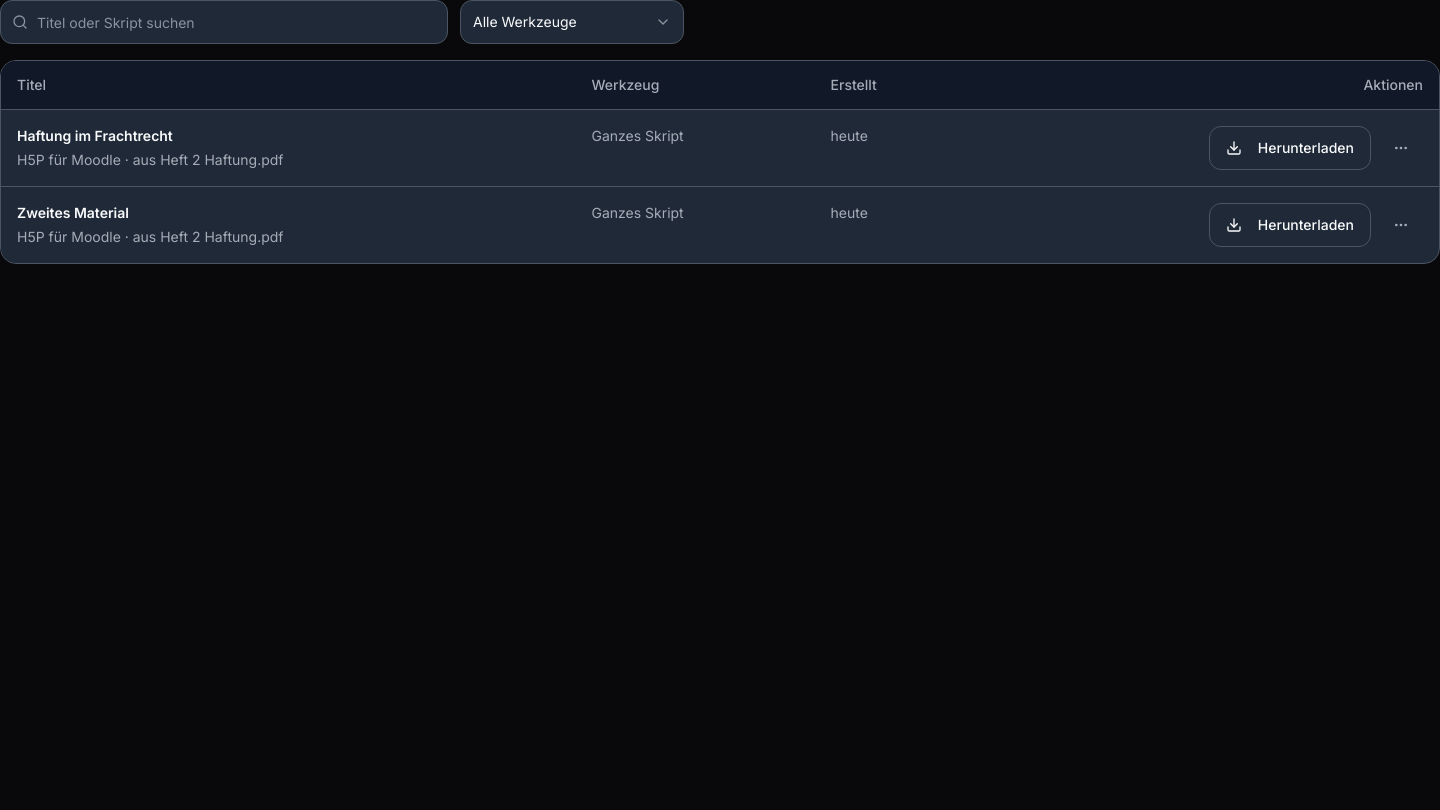
Test: Meine Materialien (PROJ-52) › löscht erst nach der Rückfrage und nimmt die Zeile dann aus der Liste
Press Enter in the button named "Weitere Aktionen für Haftung im Frachtrecht", box top-left (1379, 126), bottom-right (1423, 170)
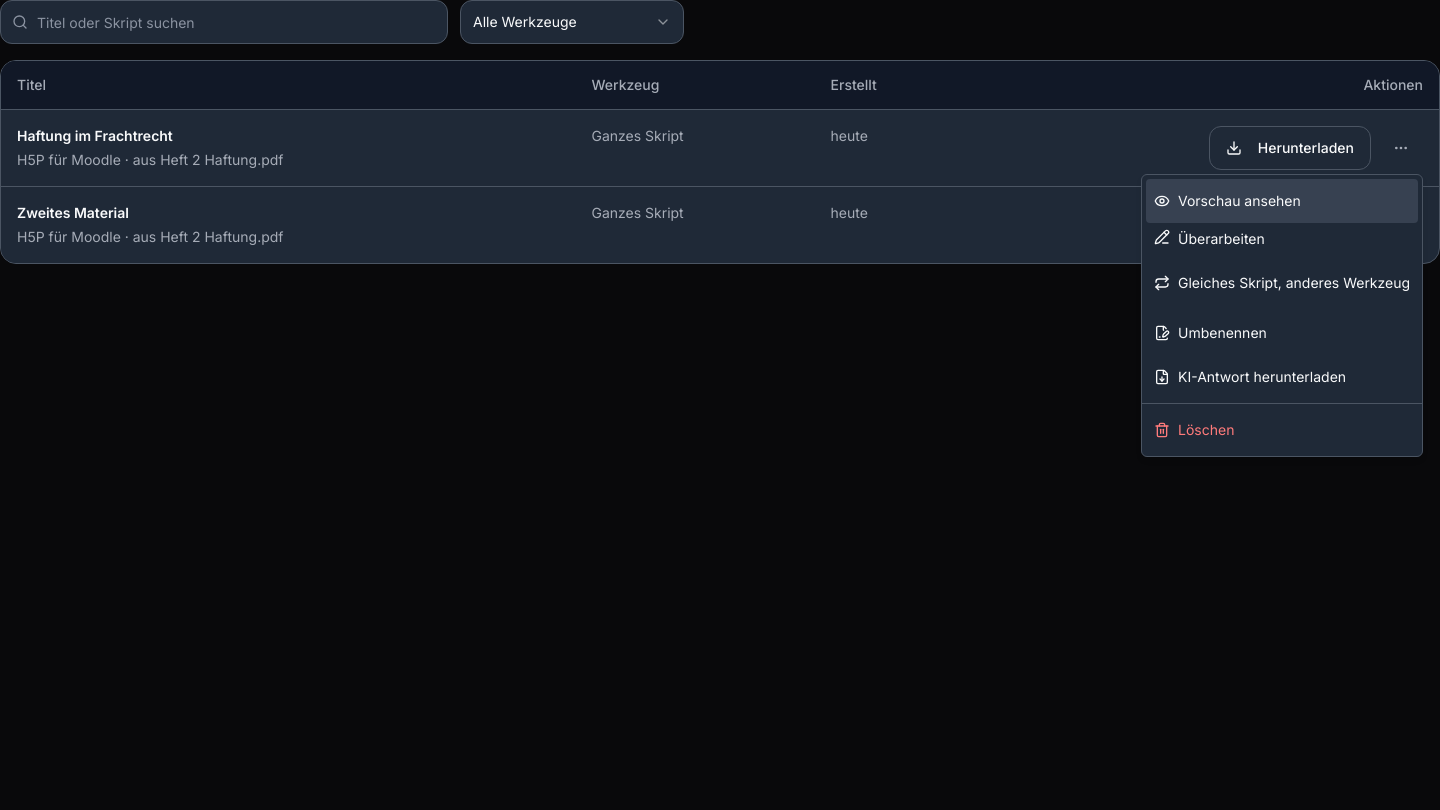
Click the menu item "Löschen" at (1194, 430), box top-left (1154, 421), bottom-right (1234, 438)
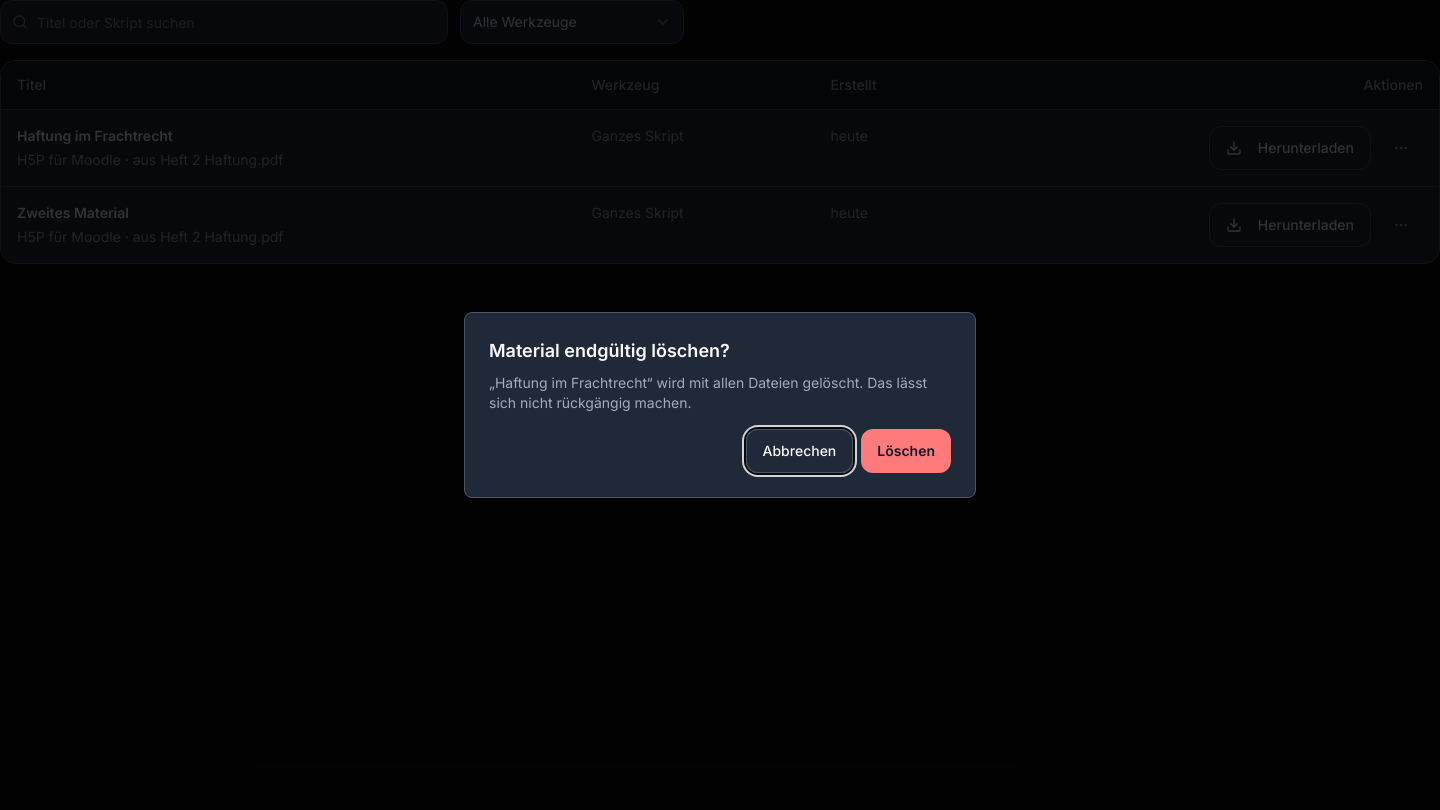
Result: the heading "Material endgültig löschen?" is shown at top-left (489, 340), bottom-right (730, 361)
Click the button "Löschen" at (906, 451), box top-left (861, 429), bottom-right (951, 473)
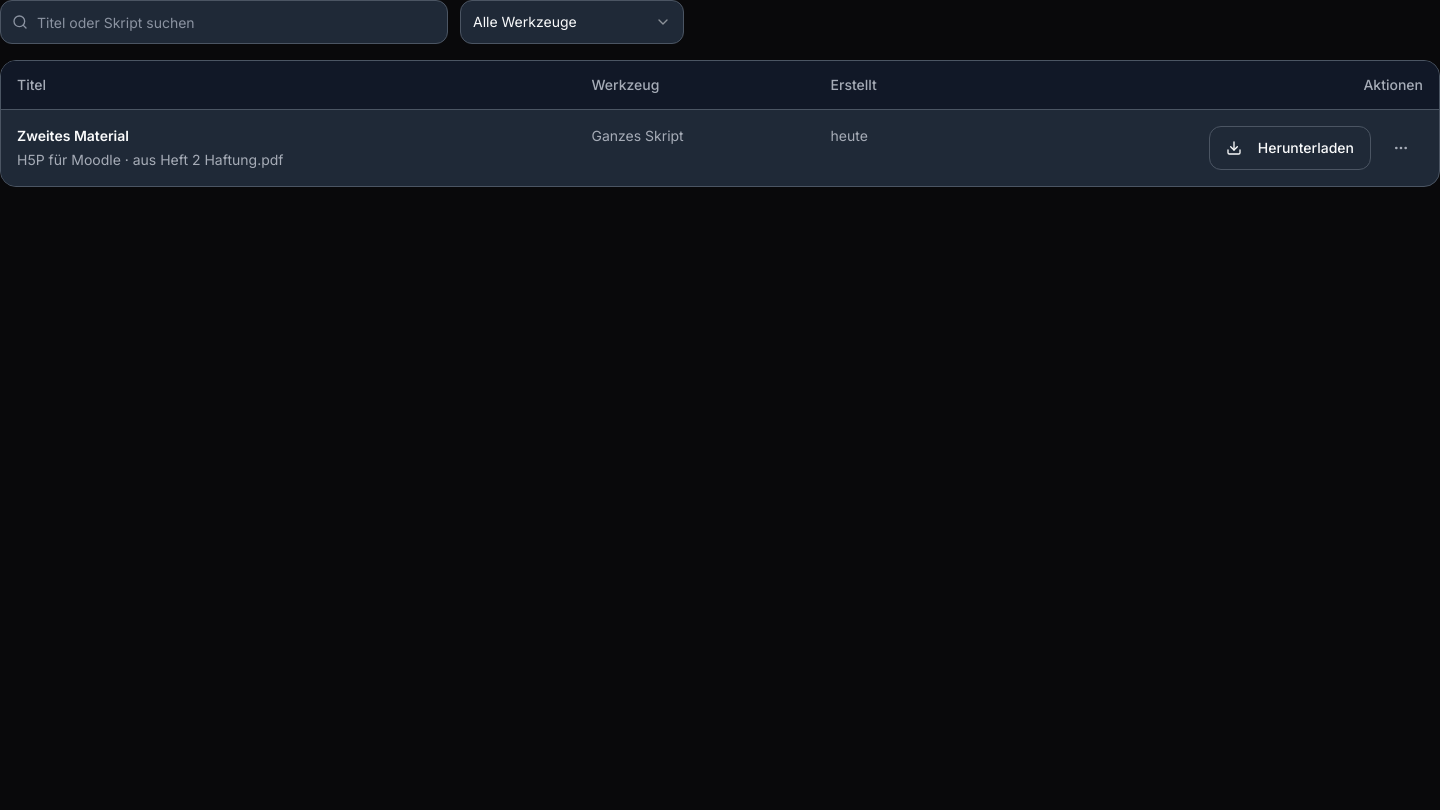
Expected: the text "Zweites Material" is shown, top-left (17, 126), bottom-right (129, 146)
Result: the text "Haftung im Frachtrecht" is gone
